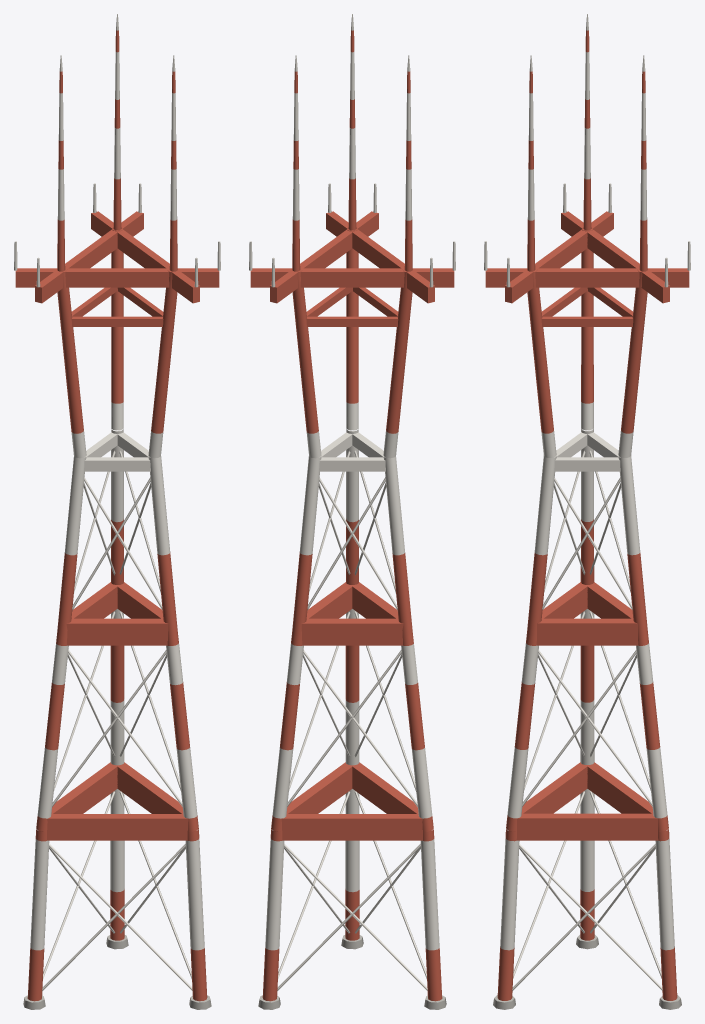
3 views of the same model, side by side, from view 1: azimuth 30°, elevation 25°; view 2: azimuth 150°, elevation 25°; view 3: azimuth 270°, elevation 25° (orthographic).
Visible parts, largest first — view 1: sutro-tower; view 2: sutro-tower; view 3: sutro-tower.
Part boxes in pixels (box(x1,y1,x2,y2)): sutro-tower: box(14, 14, 220, 1009); sutro-tower: box(249, 14, 455, 1009); sutro-tower: box(484, 14, 690, 1009).
Bounding box in the file's own units: 51.88 × 298 × 59.22.
